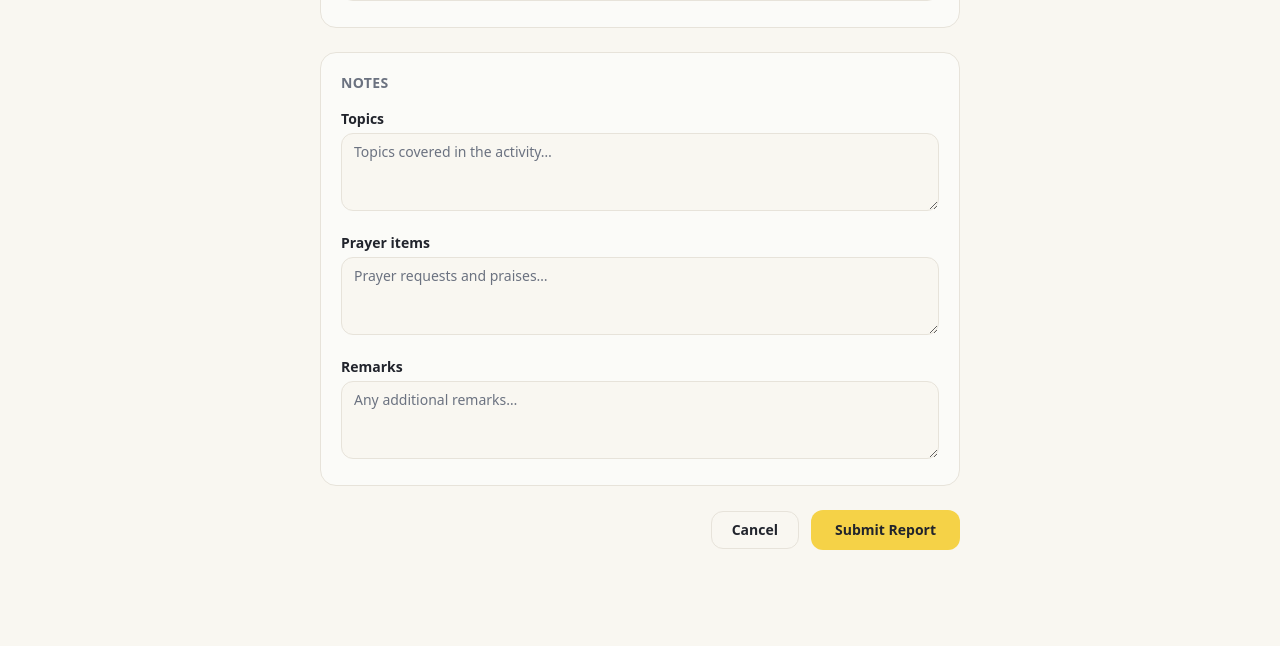
Test case: CommunityReportFormPage — validation › shows error when date_of_activity is empty on submit
The image size is (1280, 646).
(page scrolled)
Click the button "Submit Report": [886, 530] box left=811, top=510, right=960, bottom=550
(page scrolled)
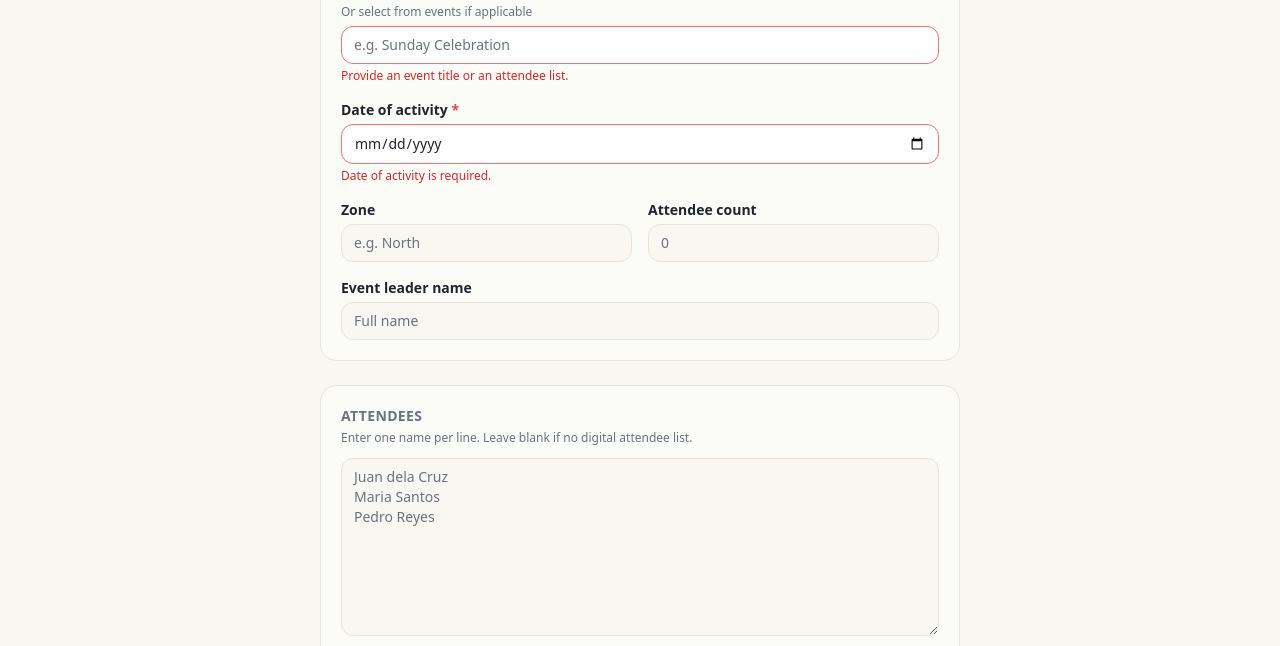
expect the text "Date of activity is required." is shown: met, box left=341, top=167, right=491, bottom=184
